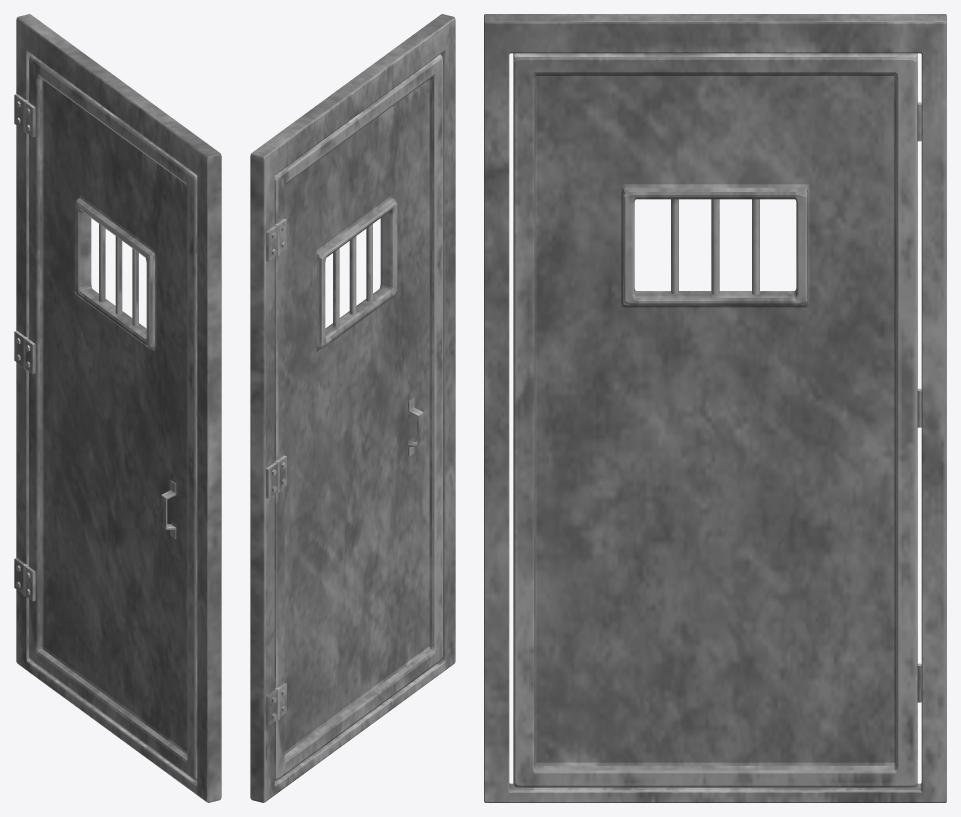
The model's file is Door_1.fbx.
3 renders of one model, left to right at view 1: azimuth 30°, elevation 25°; view 2: azimuth 150°, elevation 25°; view 3: azimuth 270°, elevation 25°, orthographic. The views are drawn at different scales.
Visible parts, largest first — view 1: Plane.006; view 2: Plane.006; view 3: Plane.006.
Boxes of the visible parts, box(x1,y1,x2,y2) form: Plane.006: box(14, 14, 221, 802); Plane.006: box(250, 14, 455, 802); Plane.006: box(484, 14, 946, 802).
Size of the model in its own units: 0.1297 by 4.19 by 2.25.
